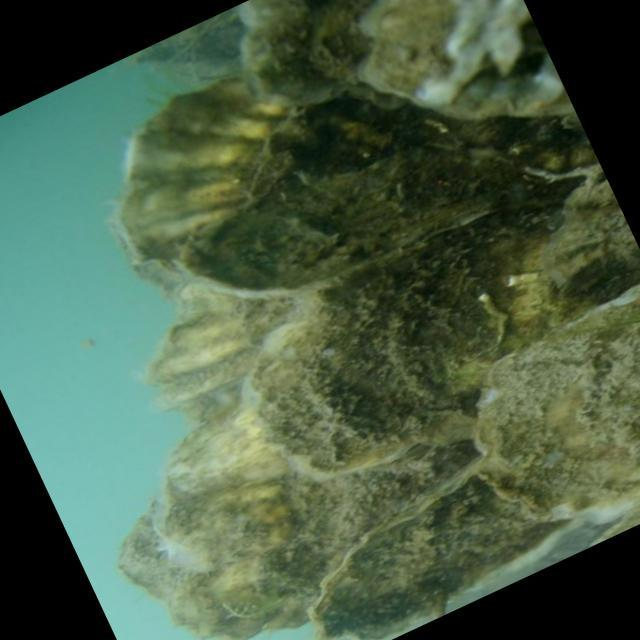Oyster- Indeterminate: (243, 202, 604, 480), (120, 405, 477, 640), (176, 94, 585, 298), (308, 456, 584, 640), (475, 285, 640, 522), (117, 77, 289, 275), (358, 0, 574, 121), (140, 278, 294, 425), (235, 0, 403, 107), (542, 178, 640, 302)
